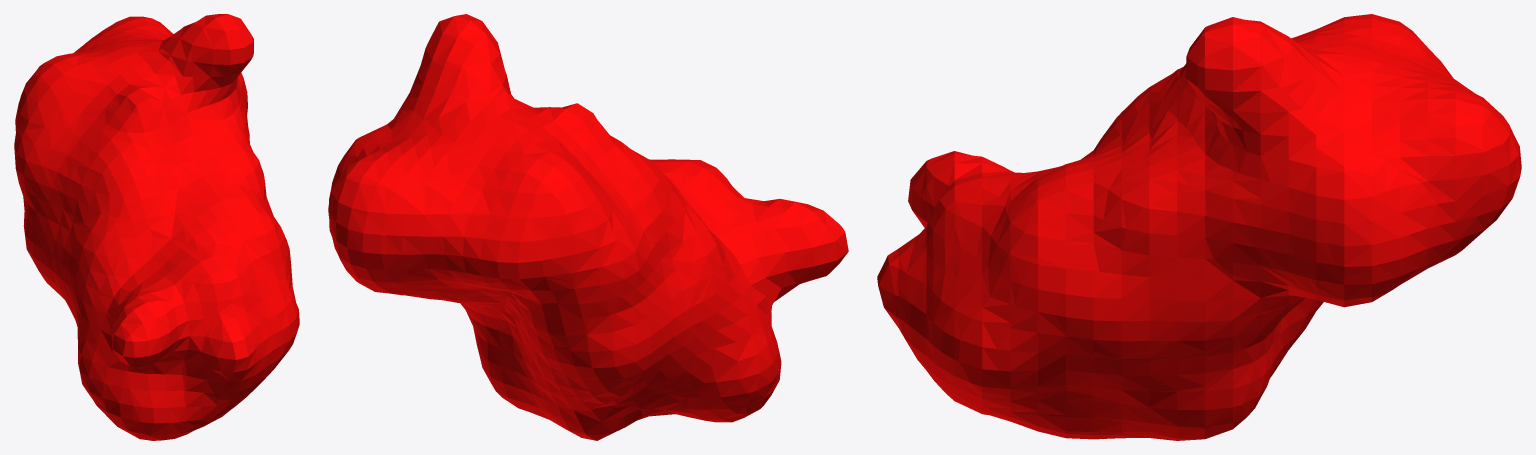
The model's file is apaG_coarse.dae.
The picture shows the model from 3 angles, left to right: view 1: azimuth 30°, elevation 25°; view 2: azimuth 150°, elevation 25°; view 3: azimuth 270°, elevation 25°; orthographic projection. The views are drawn at different scales.
Parts seen in each view (by area): view 1: apaG; view 2: apaG; view 3: apaG.
Boxes of the visible parts, <box> form: apaG: <box>14,14,299,440</box>; apaG: <box>328,14,848,440</box>; apaG: <box>877,14,1521,440</box>.
Bounding box in the file's own units: 37.01 × 44.49 × 53.3.
